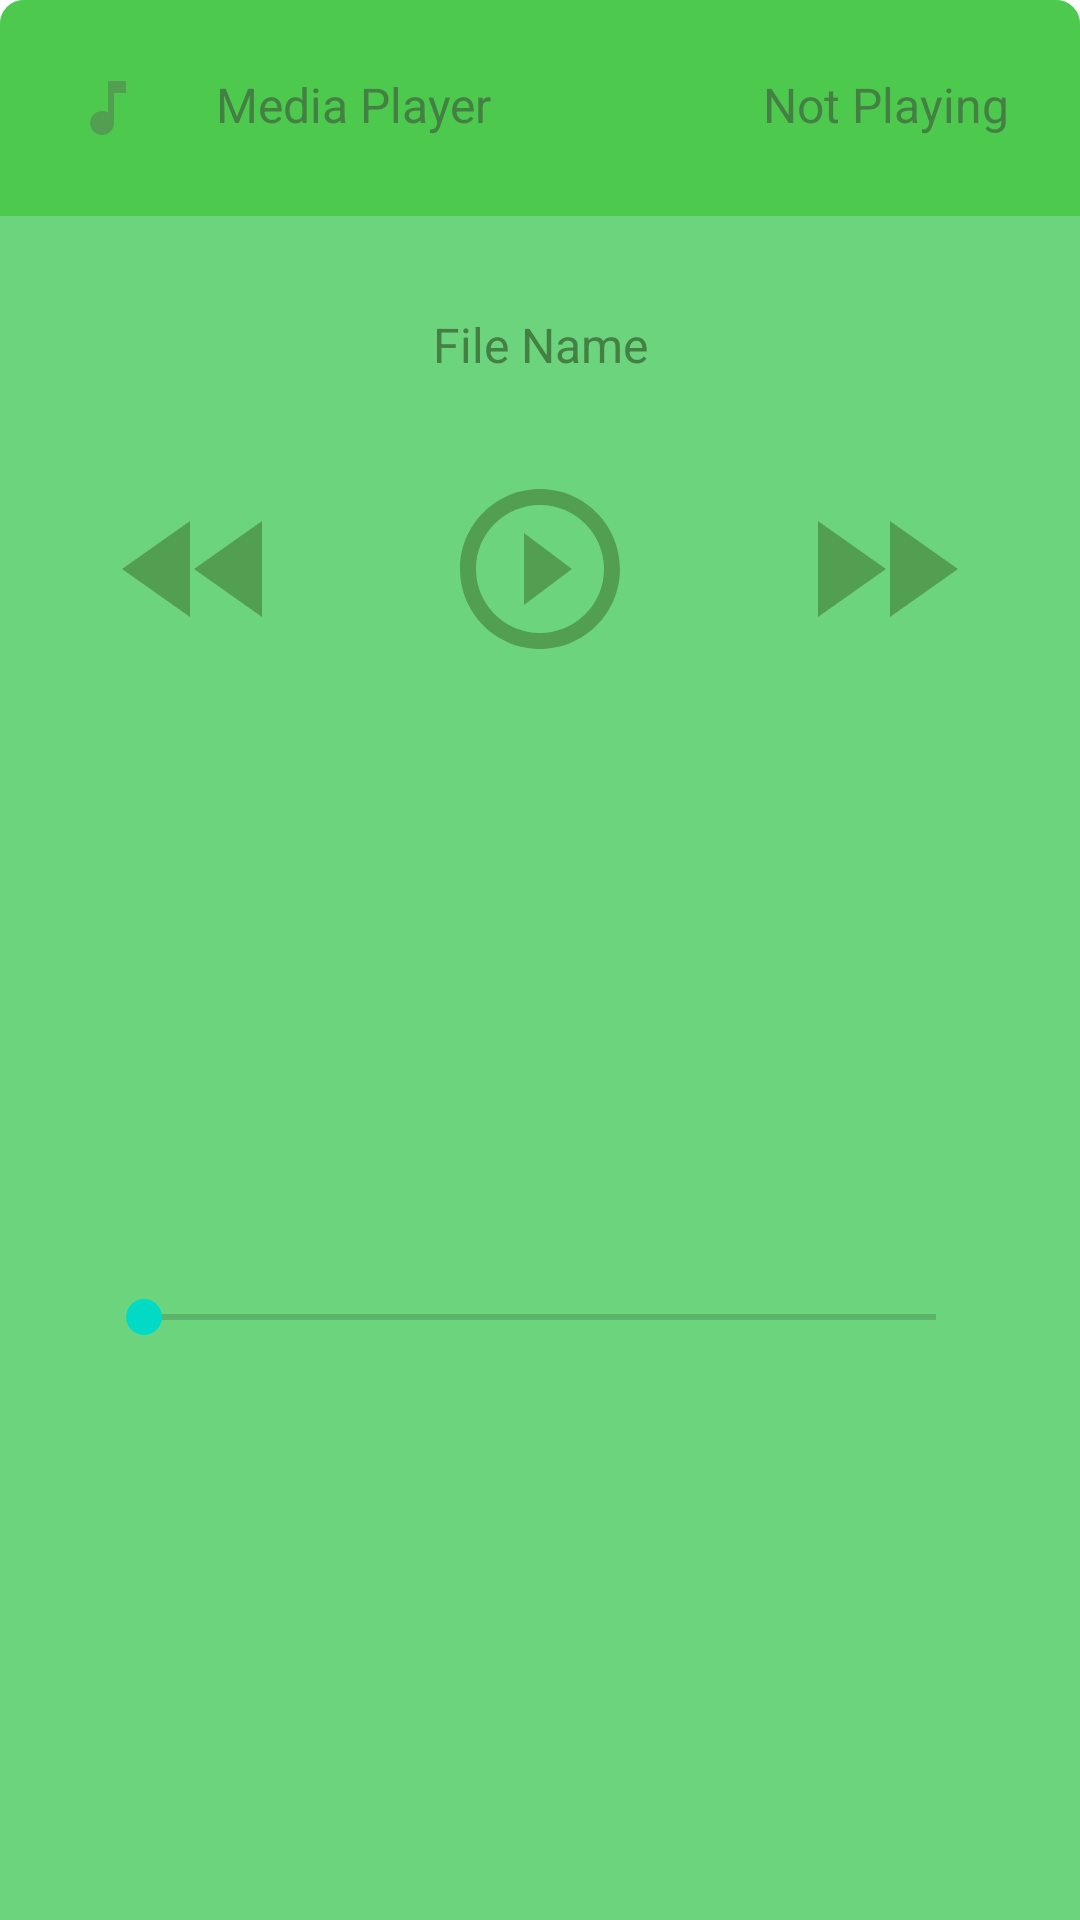

Screen size 1080 × 1920. Icon name, then its box in pixels as (x1=x1, y1=y1, x2=x2, y2=y2):
fast forward: (x1=818, y1=521, x2=957, y2=617)
fast rewind: (x1=123, y1=521, x2=262, y2=617)
play circle: (x1=460, y1=489, x2=620, y2=649)
